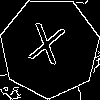X: (24, 22, 67, 75)
